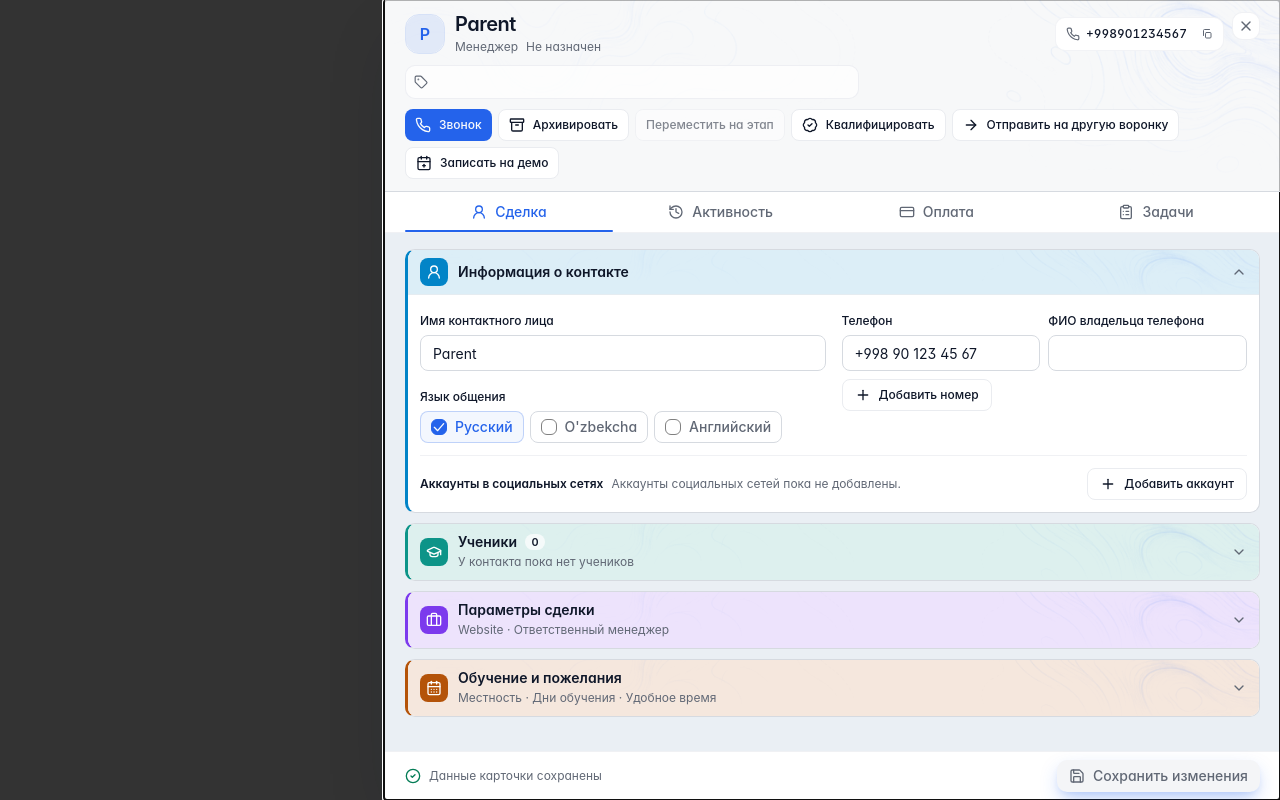
Test: self-assignment inside the lead modal › cancels a claim without any write
The image size is (1280, 800).
Click the button "Записать на демо" at coordinates (482, 163), box [405,147,560,179]
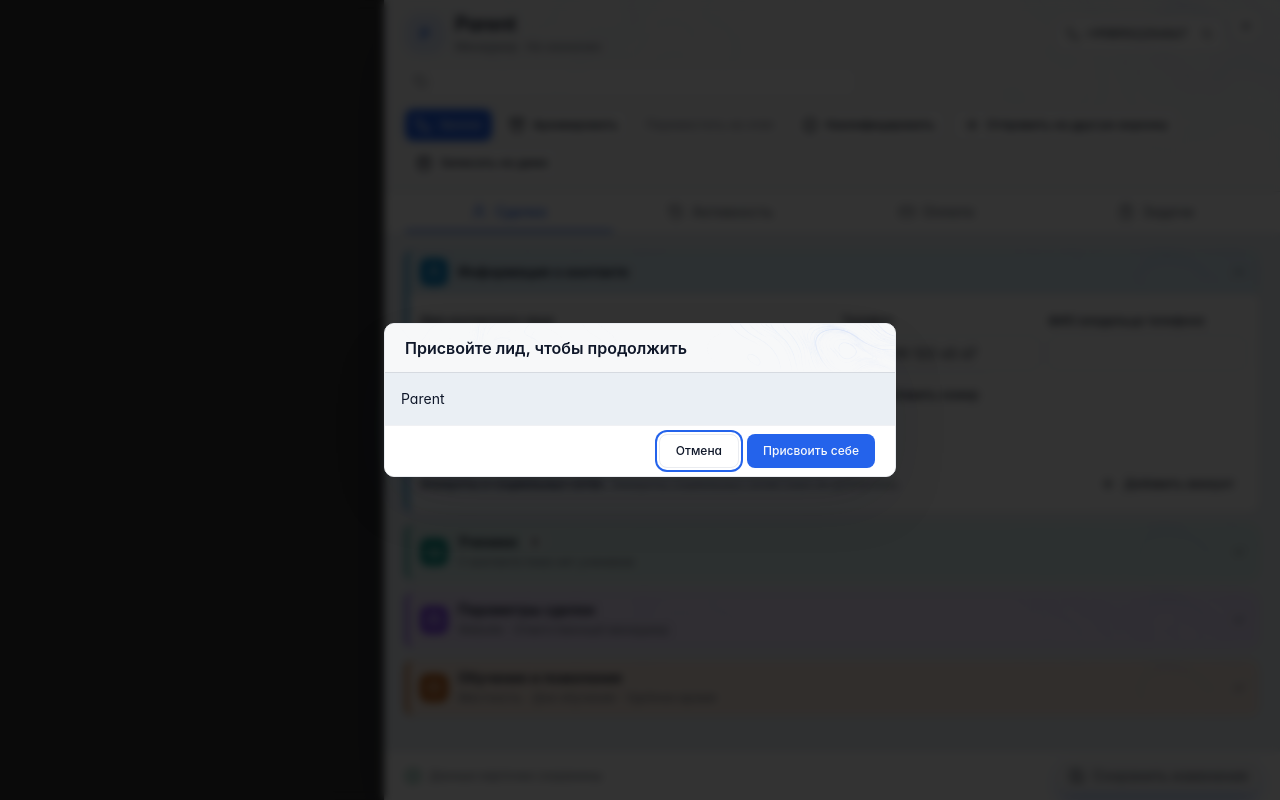
Click the button "Отмена" at coordinates (699, 451), box [659,434,739,468]
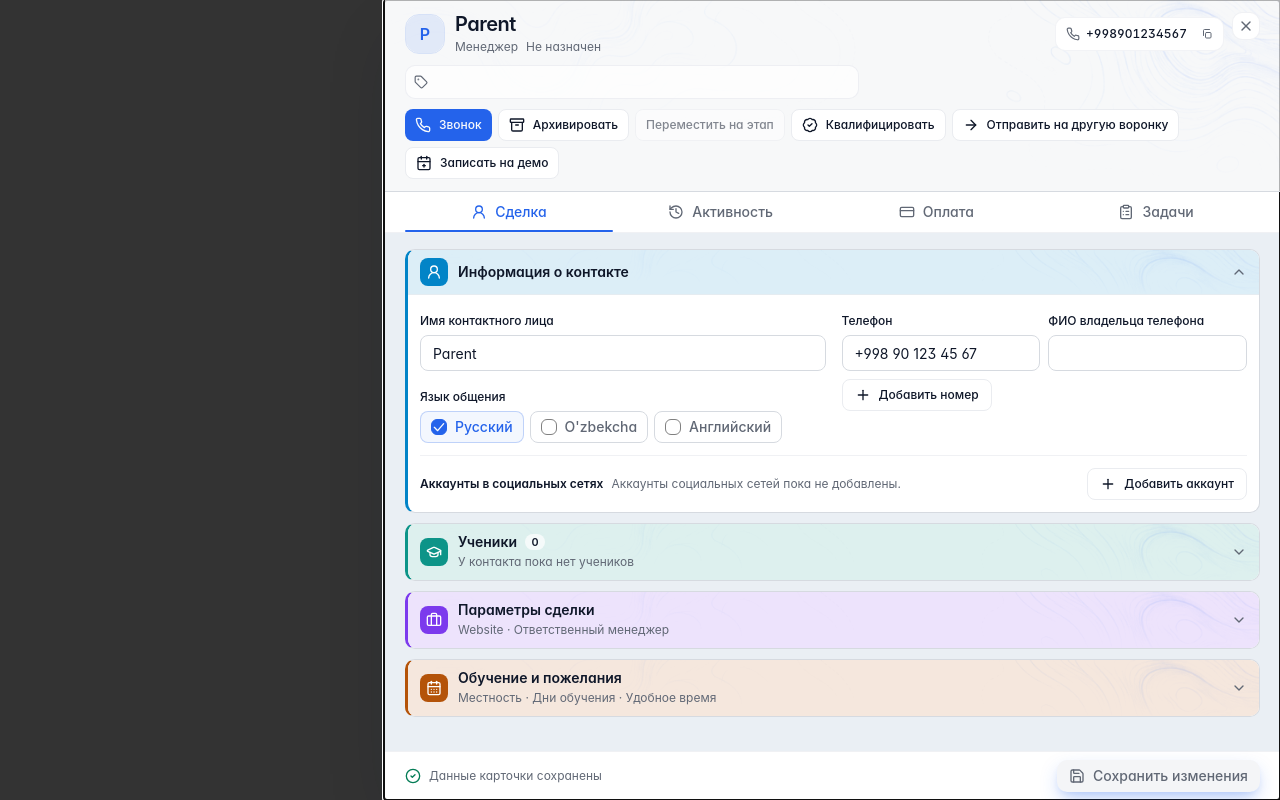
Result: the dialog "Присвойте лид, чтобы продолжить Parent Отмена Присвоить себе" is gone
Click the button "Отправить на другую воронку" at coordinates (1066, 125), box [952,109,1180,141]
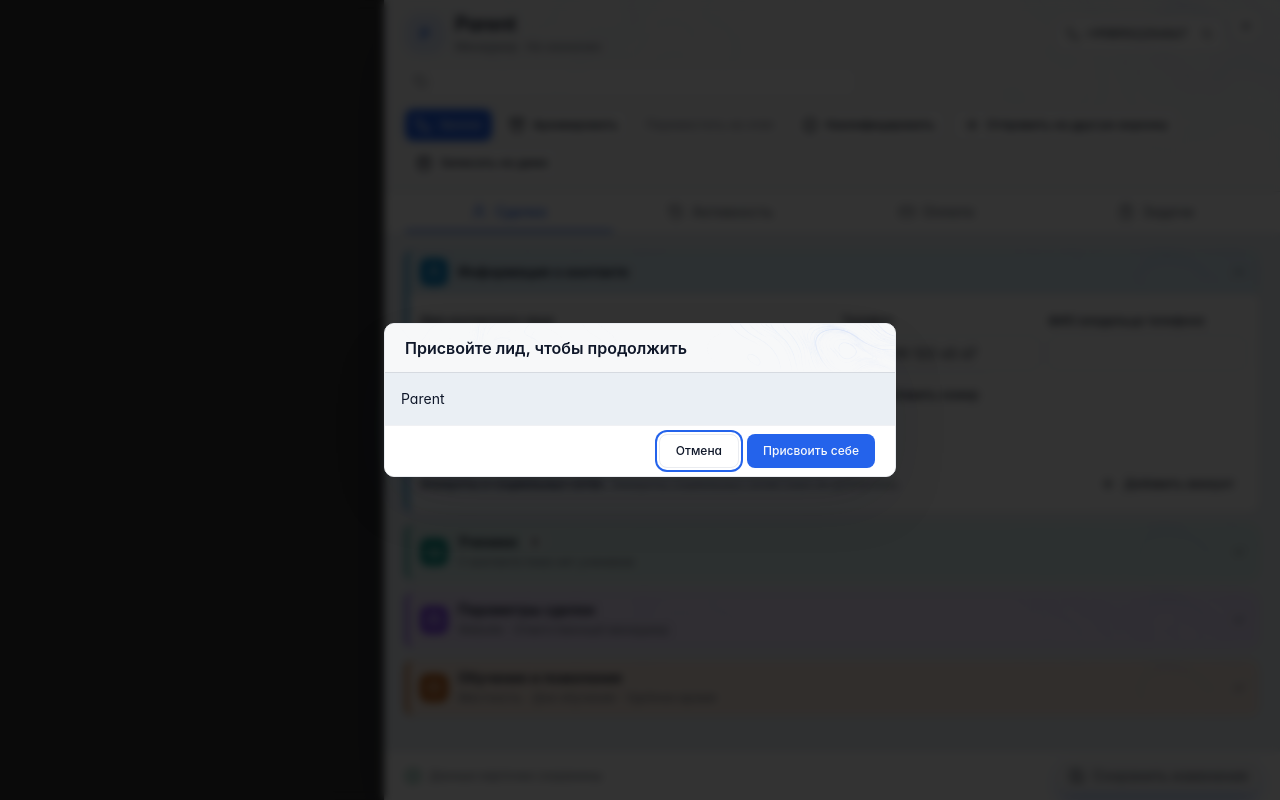
Result: the dialog "Присвойте лид, чтобы продолжить" is shown at [384,323,896,477]
